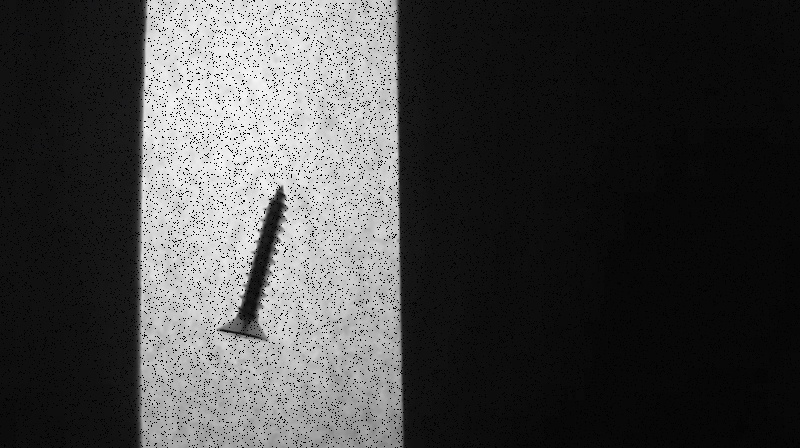S001: (212, 180, 290, 344)
